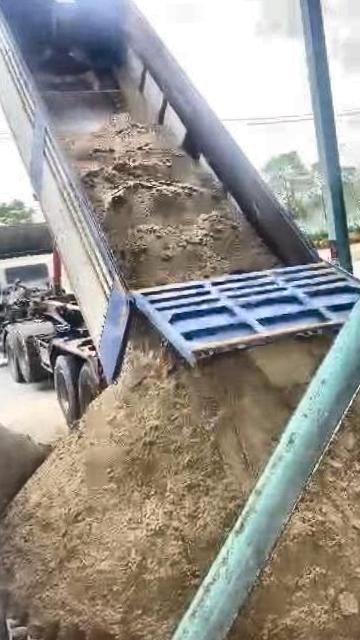sand: (0, 323, 328, 640), (63, 116, 278, 287), (225, 381, 360, 640), (0, 413, 47, 528)
